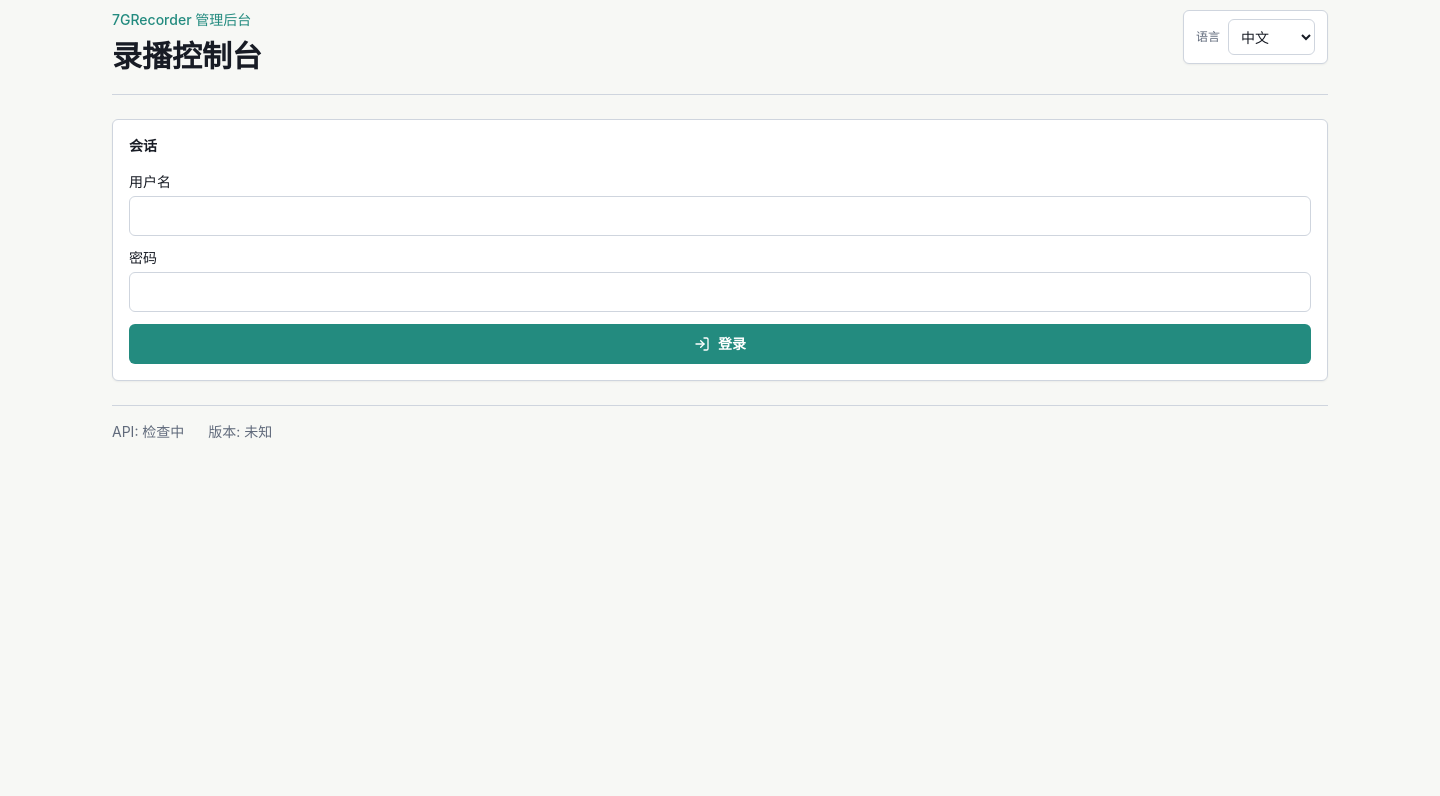
Test case: AdminDashboard › lets a super admin select an available COS video for song analysis
Select "English" in the dropdown at (1272, 37), box [1228,19,1315,55]
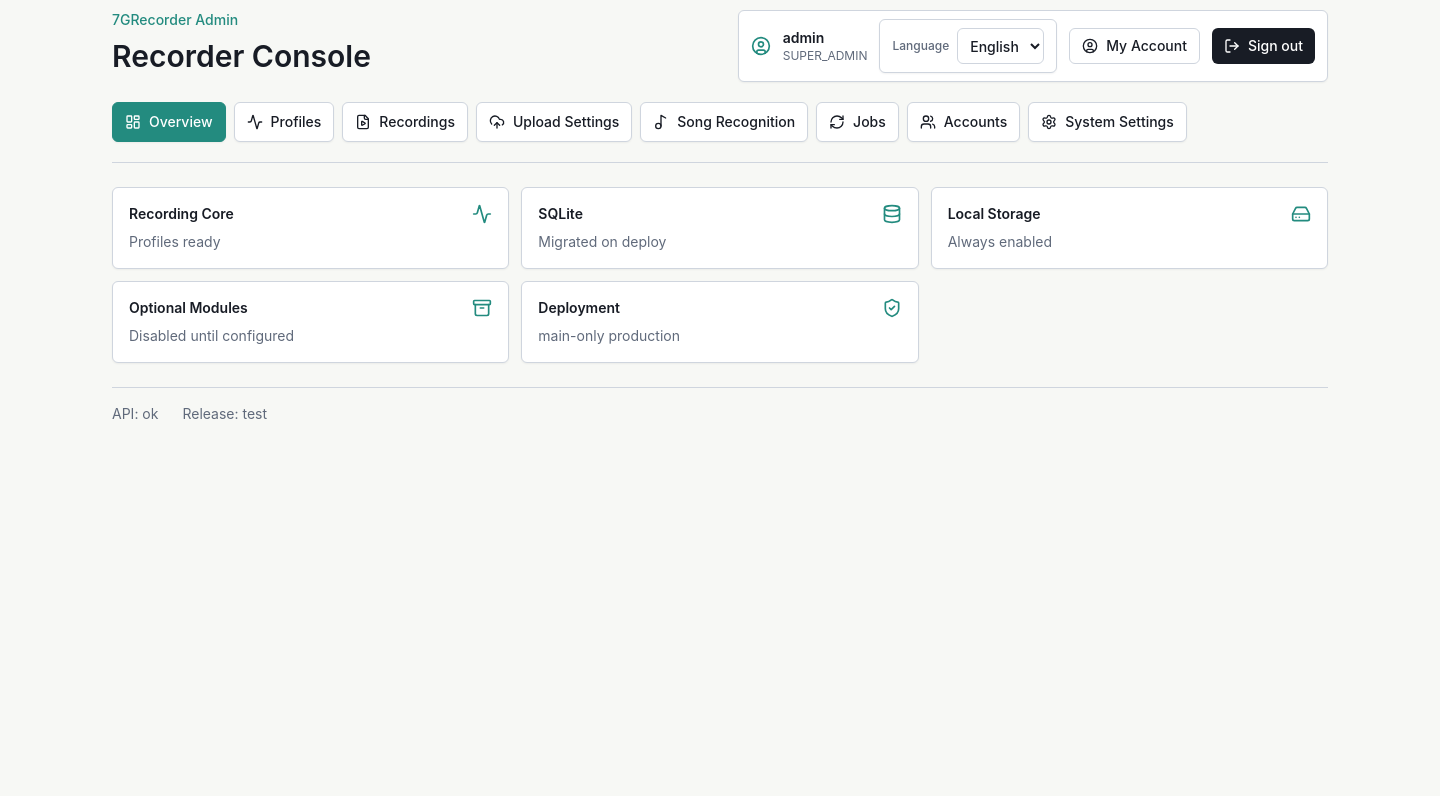
Now the heading "Recorder Console" is shown, box [112,38,371,74]
Click the button "Song Recognition" at (724, 122), box [640,102,808,142]
(page scrolled)
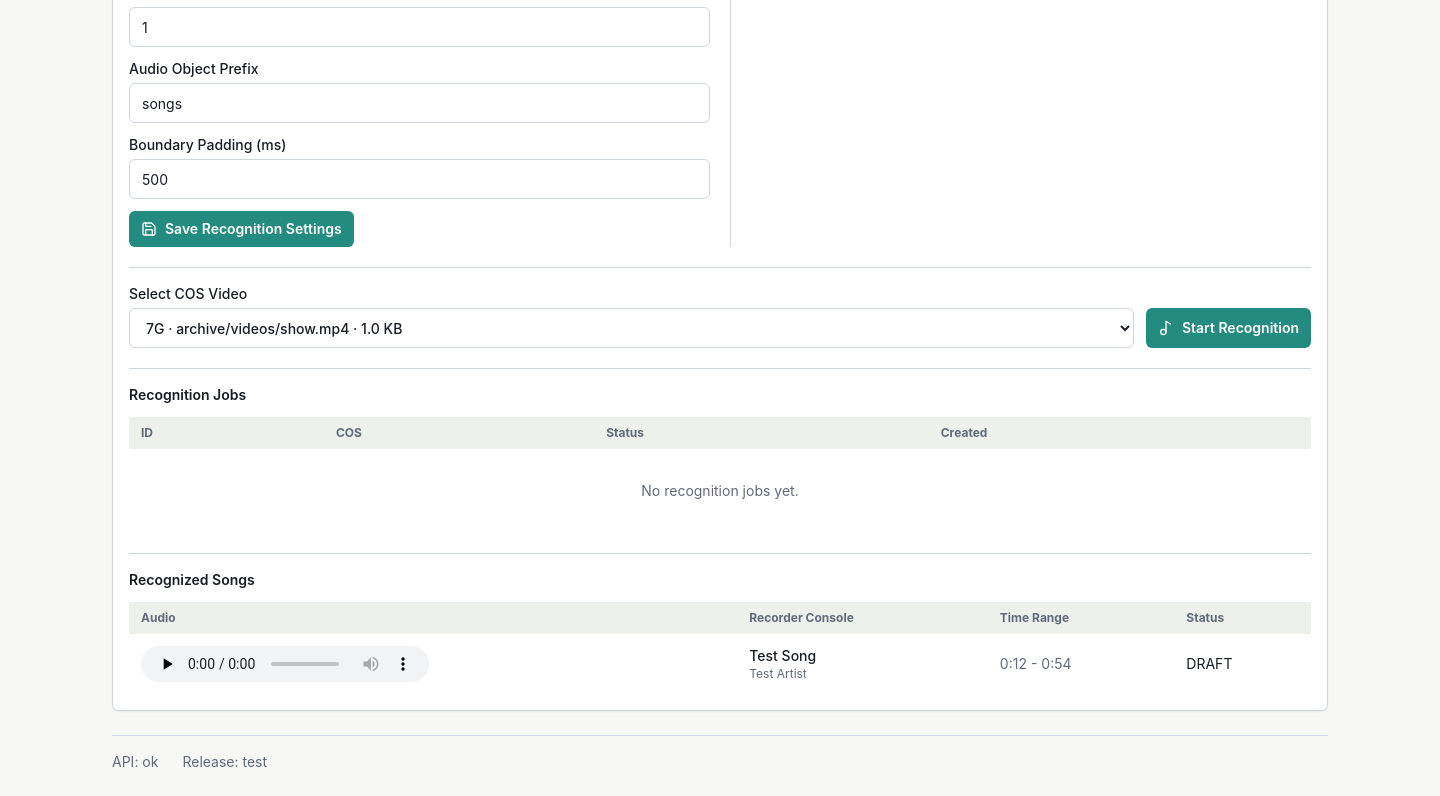
Now the button "Start Recognition" is enabled, box [1146,308,1311,348]
Now the text "Test Song" is shown, box [749,647,816,664]
